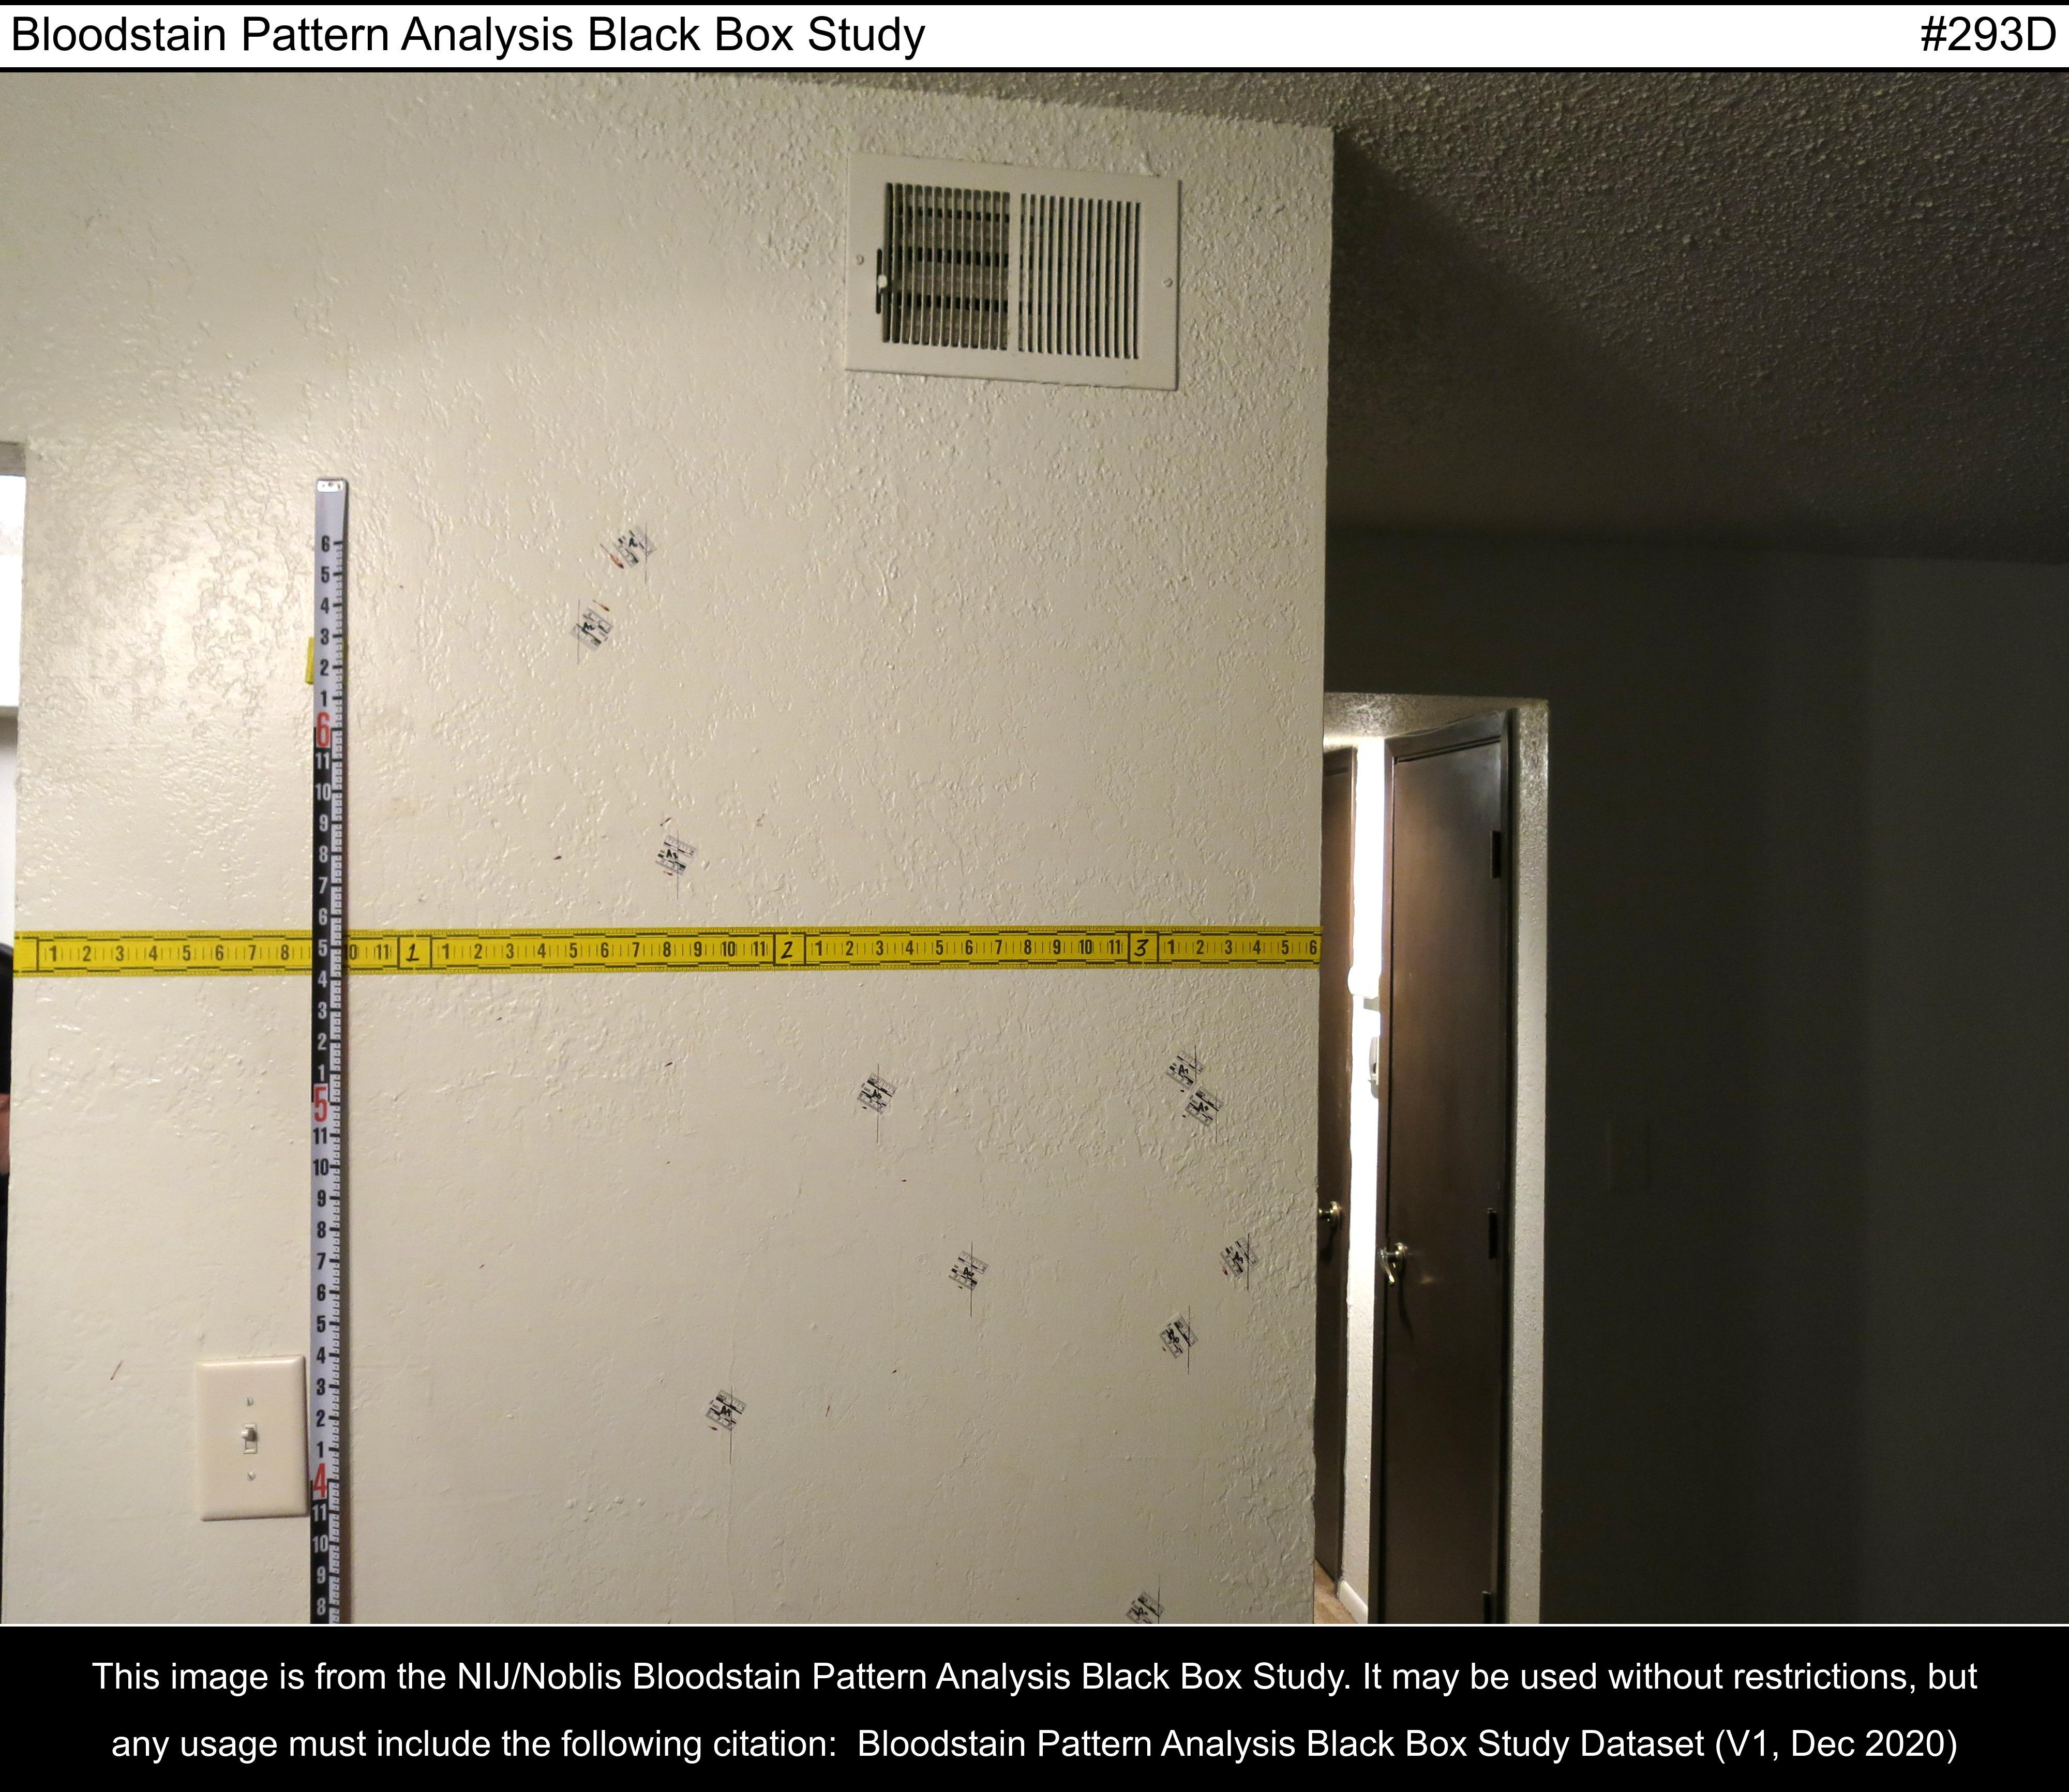Impact: (593, 550, 623, 621)
